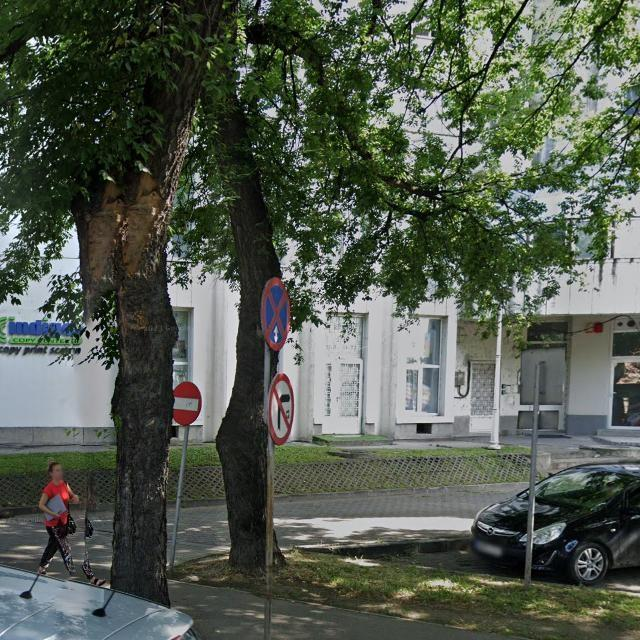forb_waiting: (261, 278, 292, 353)
